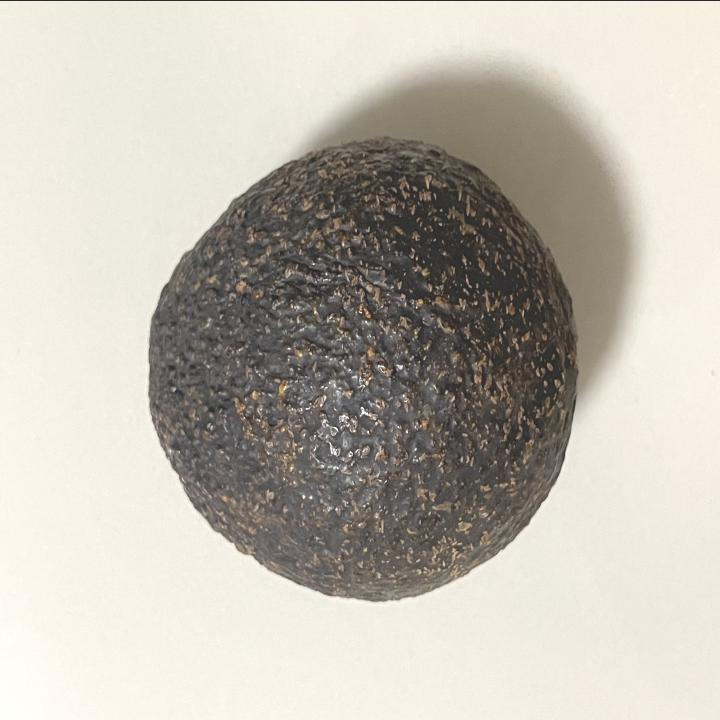Level3: (134, 126, 586, 610)
